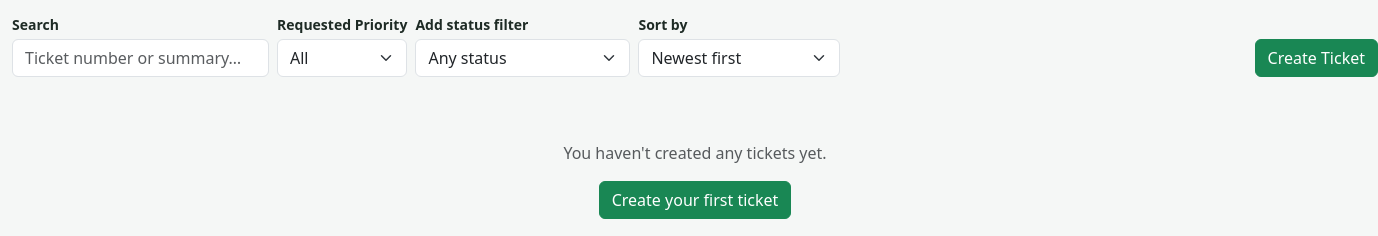
MyTickets › shows the no-results state when a search matches nothing
Type "nothing matches this" into the field labelled "Search" at point(140, 58), box [12, 39, 269, 77]
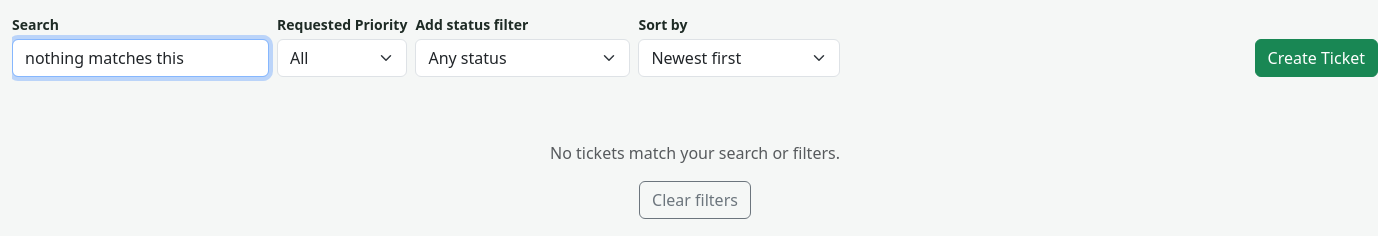
Now the text "No tickets match your search or filters." is shown, box [550, 142, 840, 164]
